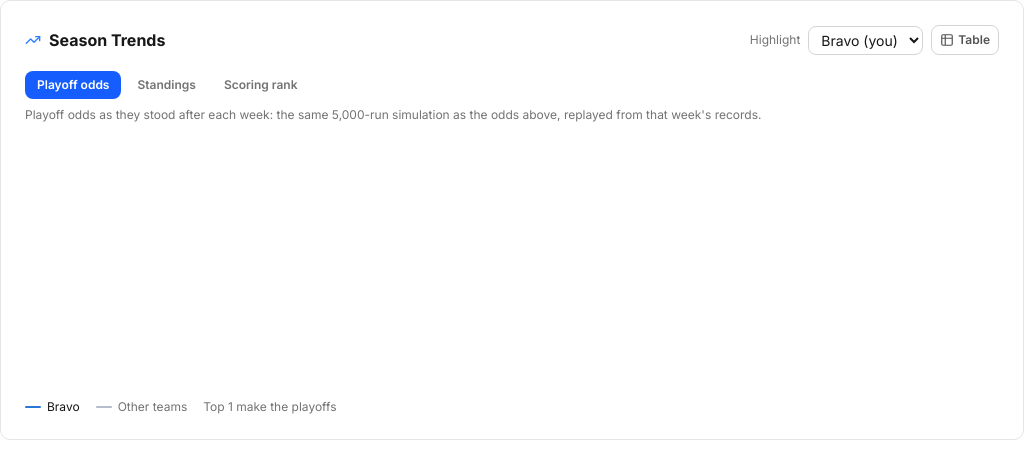
Test: LeagueTrends › shows week-by-week playoff odds in the table view and hides AI power rank for non-Pro
This screenshot has width=1024, height=457.
Check: the tab "Playoff odds" is shown, box [25,71,122,99]
Check: the dropdown labelled "Highlight" shows "Bravo (you)", box [808,26,923,54]
Click the button "Table": (965, 40) [931,25,999,55]
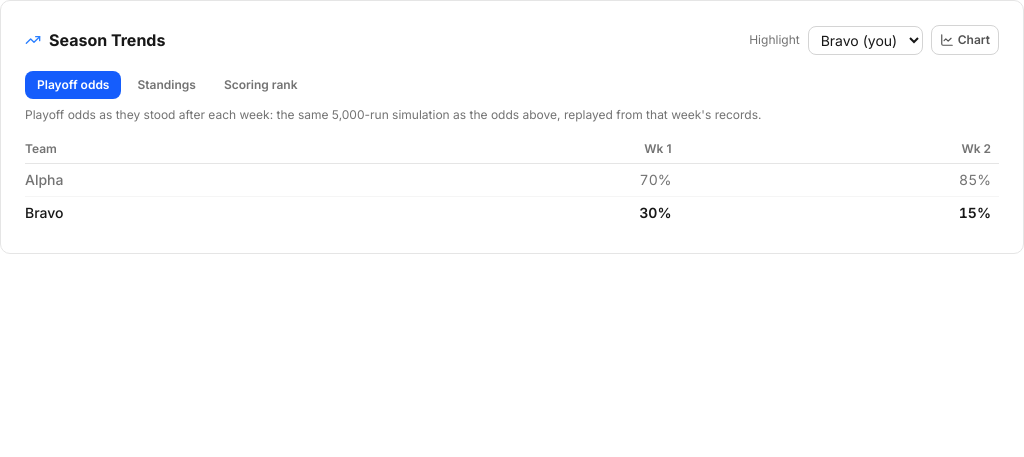
Check: the text "30%" is shown, box [360,196,680,229]
Check: the text "15%" is shown, box [680,196,999,229]
Click the tab "Standings": (167, 85) [126,71,208,99]
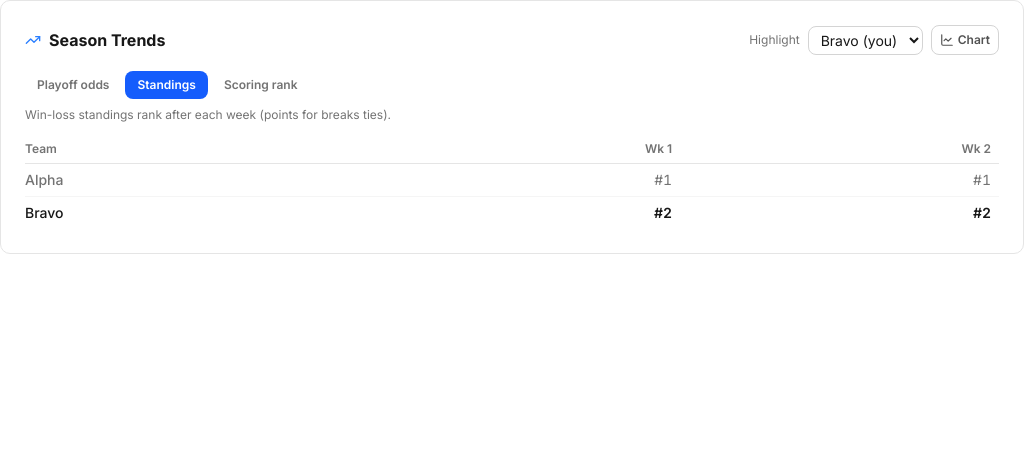
Check: the row "Alpha #1 #1" is shown, box [25,164,999,196]
